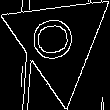O_E: (33, 17, 85, 66)
